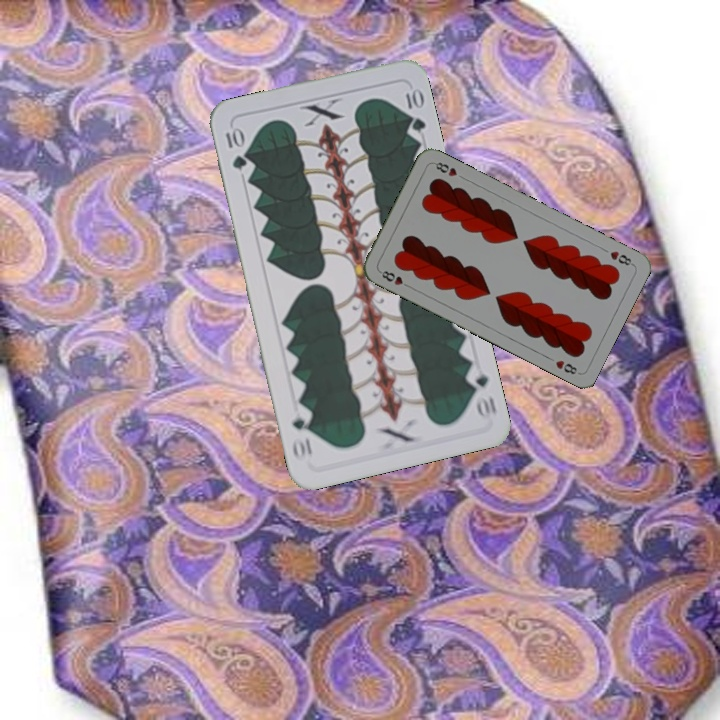G10: (462, 362, 499, 422), (221, 123, 249, 173)
H8: (376, 266, 413, 291), (606, 247, 636, 268)
